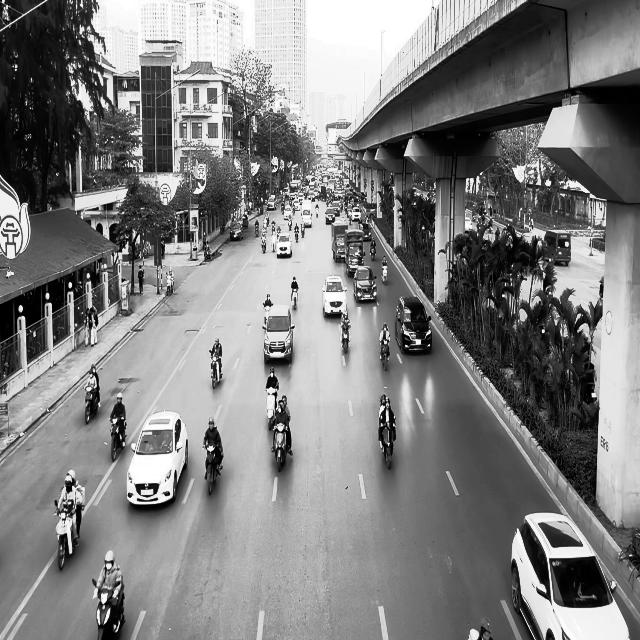car: (510, 512, 630, 640), (126, 410, 188, 506), (395, 294, 432, 354), (262, 304, 295, 363), (321, 275, 348, 318), (353, 265, 377, 302), (276, 232, 292, 258), (229, 220, 243, 240)
motorbike: (92, 578, 125, 639), (54, 500, 79, 570), (202, 443, 222, 495), (271, 419, 289, 472), (378, 418, 396, 470), (109, 415, 126, 461), (83, 383, 100, 424), (209, 349, 222, 388), (379, 339, 390, 370), (340, 320, 350, 352), (263, 301, 272, 328), (291, 287, 298, 309), (381, 263, 388, 285)
